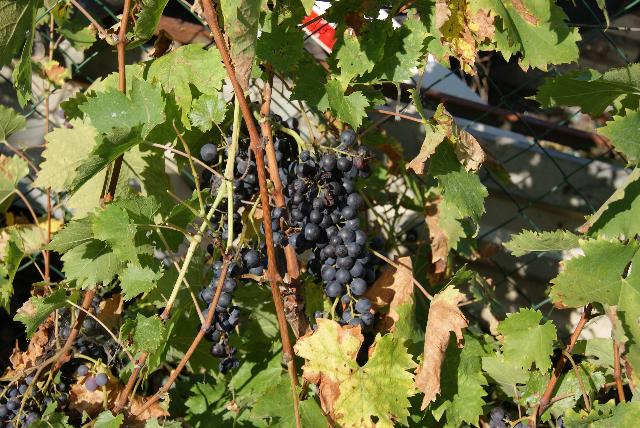grapes: (281, 130, 384, 334), (205, 261, 241, 374), (198, 260, 224, 318), (242, 249, 264, 272)
